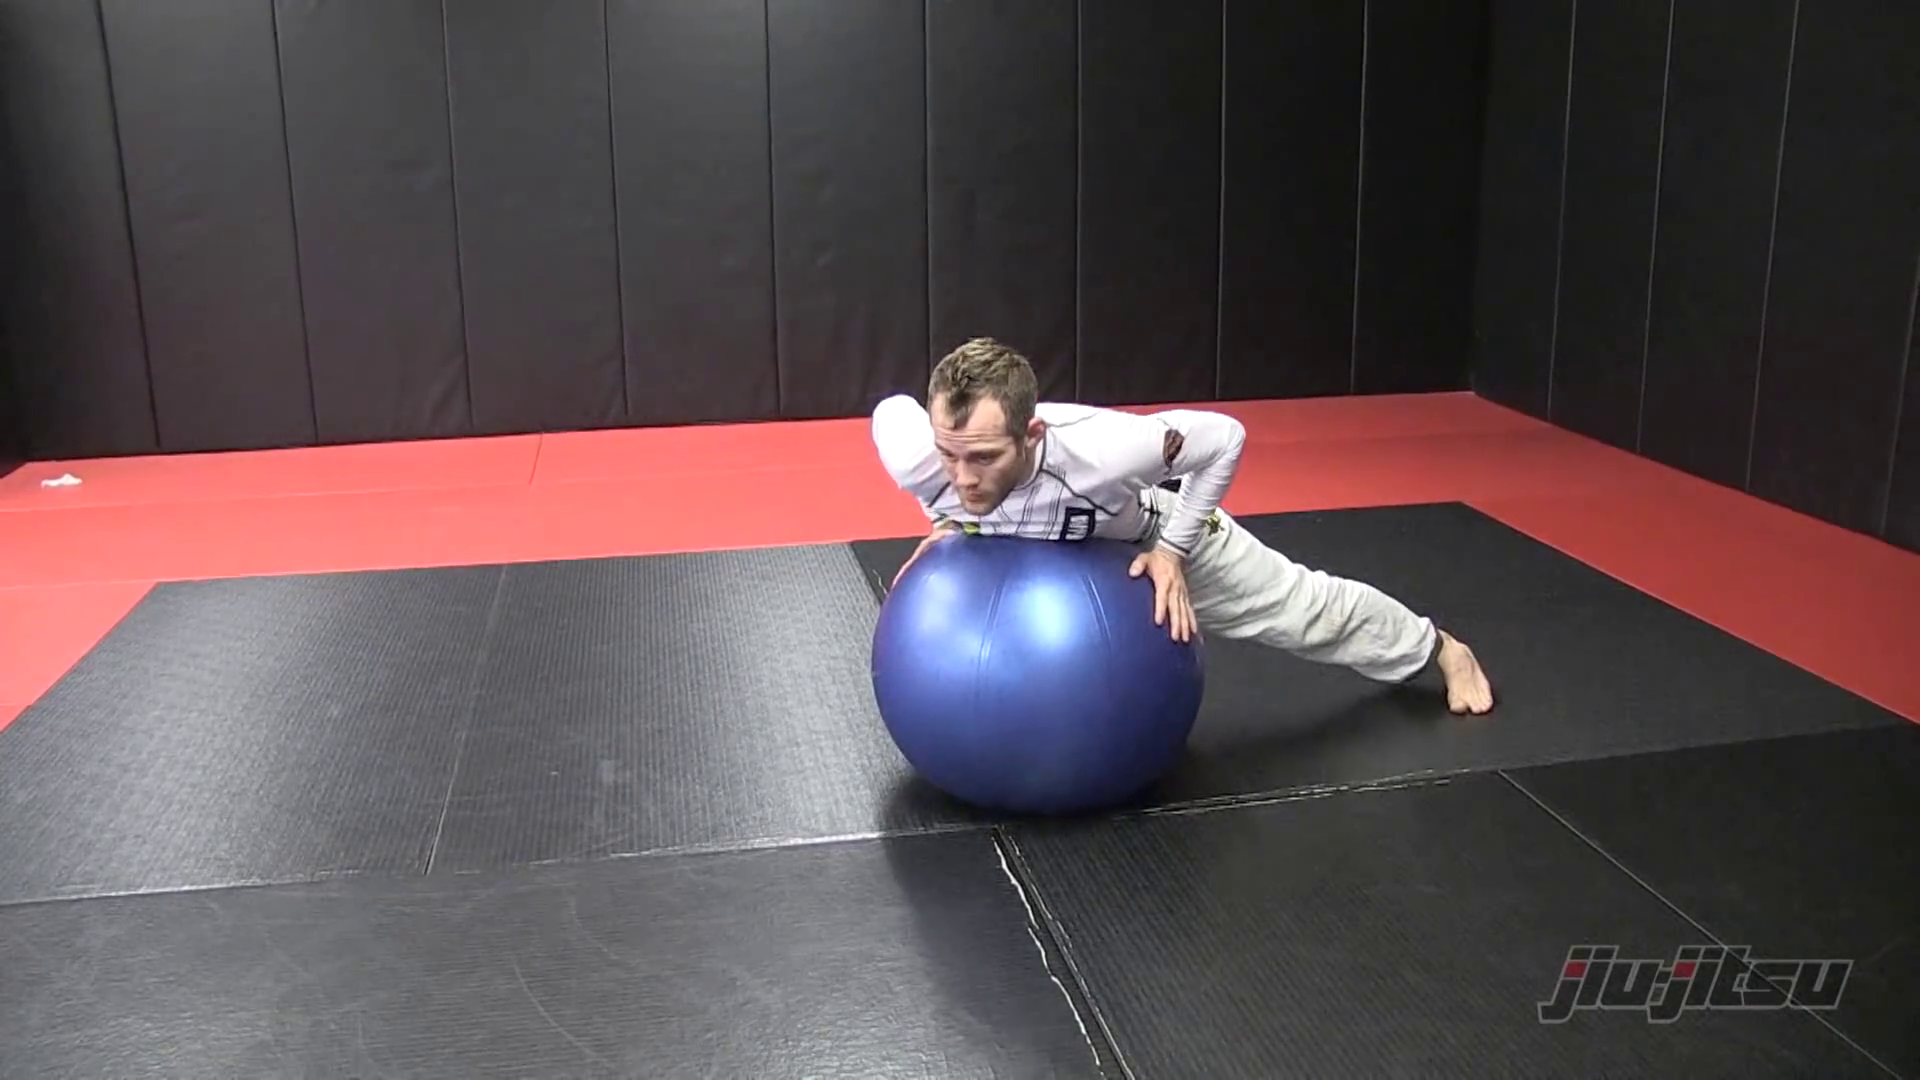yogaball: (855, 524, 1218, 841)
